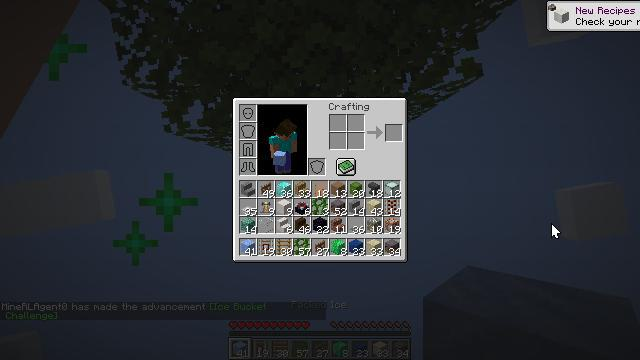cursor: (551, 223, 561, 239)
